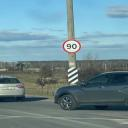speed_limit_90: (62, 39, 81, 53)
